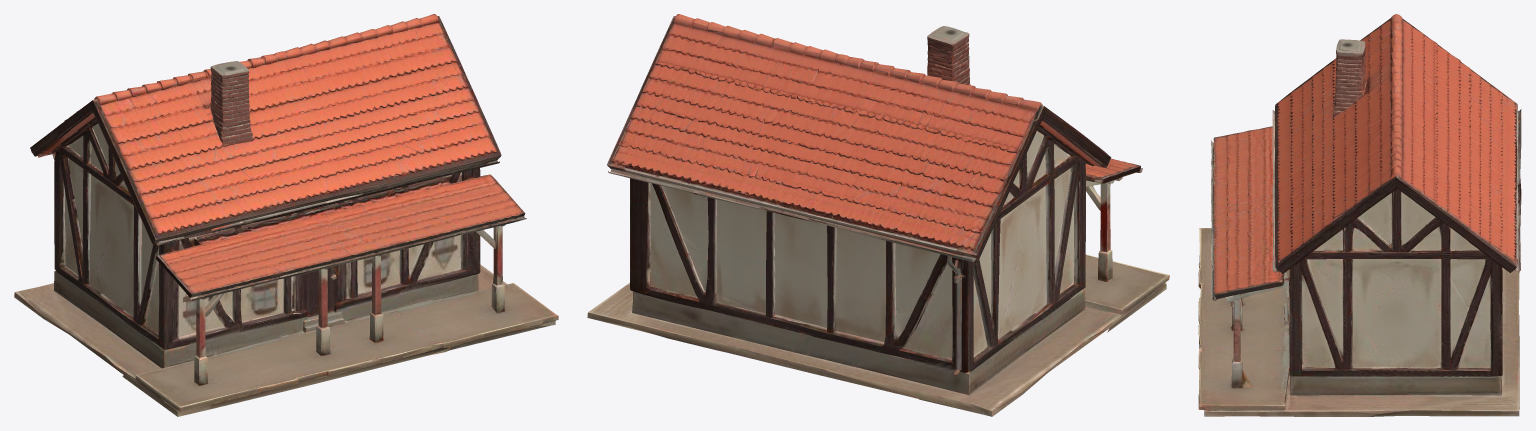
The model's file is station.glb.
3 renders of one model, left to right at view 1: azimuth 30°, elevation 25°; view 2: azimuth 150°, elevation 25°; view 3: azimuth 270°, elevation 25°, orthographic. The views are drawn at different scales.
Bounding box in the file's own units: 1.9 × 1.27 × 1.46.
1 material, 1 textured.
